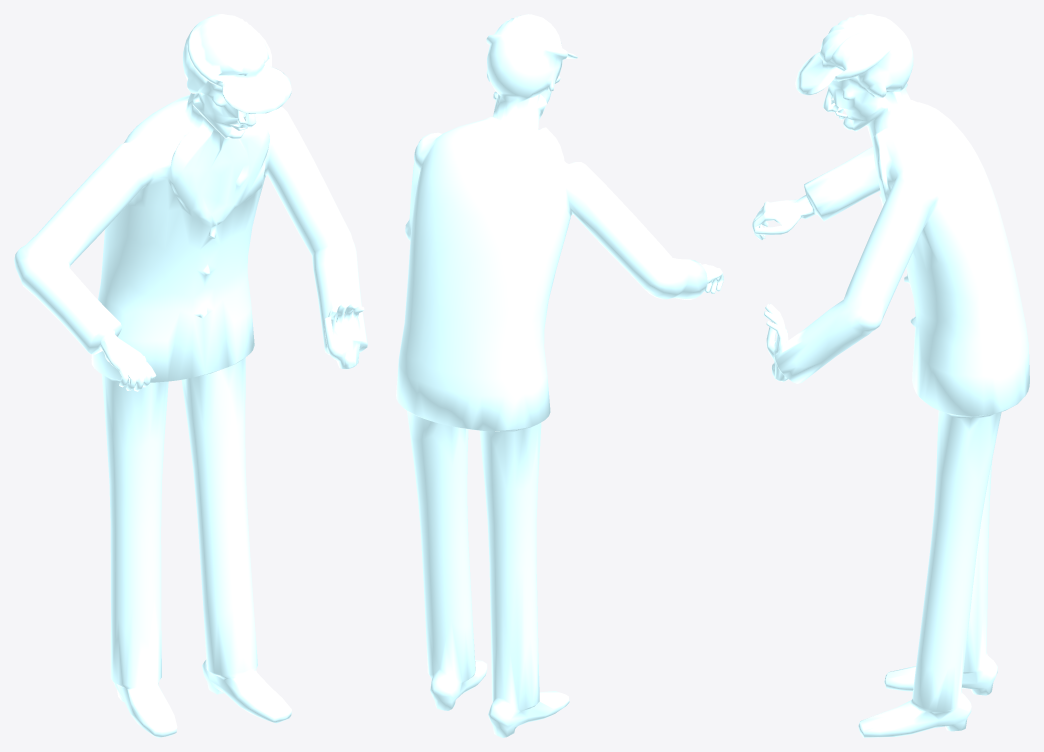
Rendered from echo_clerk_post.glb.
3 renders of one model, left to right at view 1: azimuth 30°, elevation 25°; view 2: azimuth 150°, elevation 25°; view 3: azimuth 270°, elevation 25°, orthographic. The views are drawn at different scales.
Visible parts, largest first — view 1: echo_clerk_post; view 2: echo_clerk_post; view 3: echo_clerk_post.
Part boxes in pixels (box(x1,y1,x2,y2)): echo_clerk_post: box(14, 14, 367, 737); echo_clerk_post: box(396, 14, 723, 737); echo_clerk_post: box(752, 14, 1029, 737).
Size of the model in its own units: 0.7972 by 1.74 by 0.6334.
